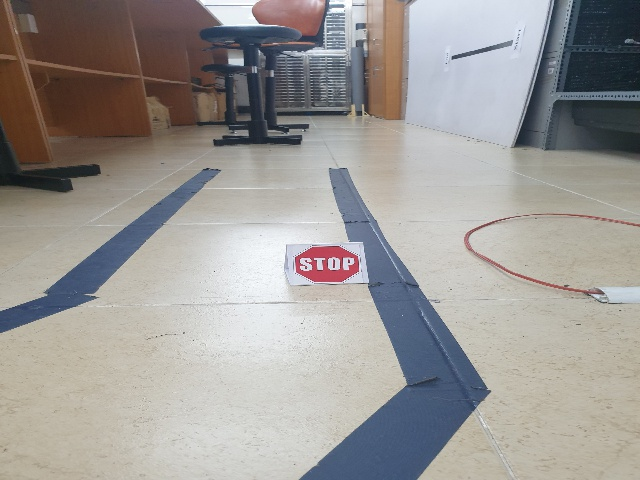Stop: (291, 244, 362, 281)
